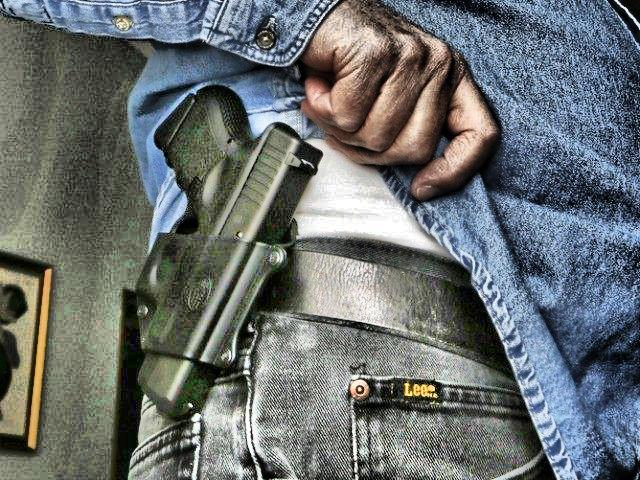pistol: (110, 80, 330, 428)
